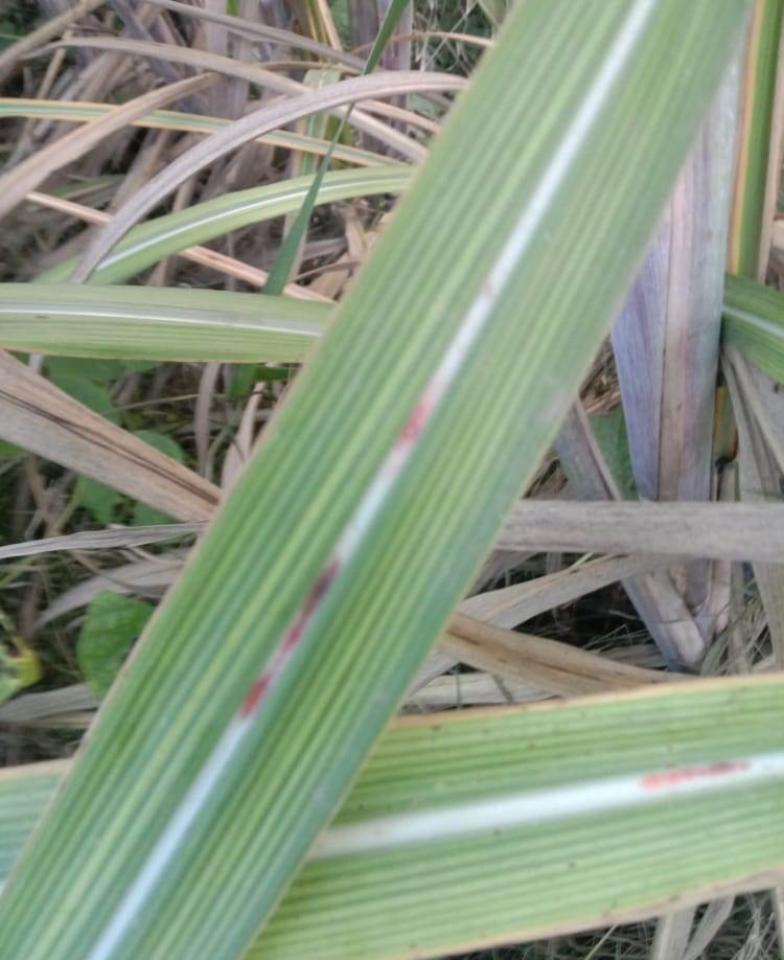RedRot: (241, 556, 341, 718), (639, 759, 754, 788), (392, 403, 427, 454)
